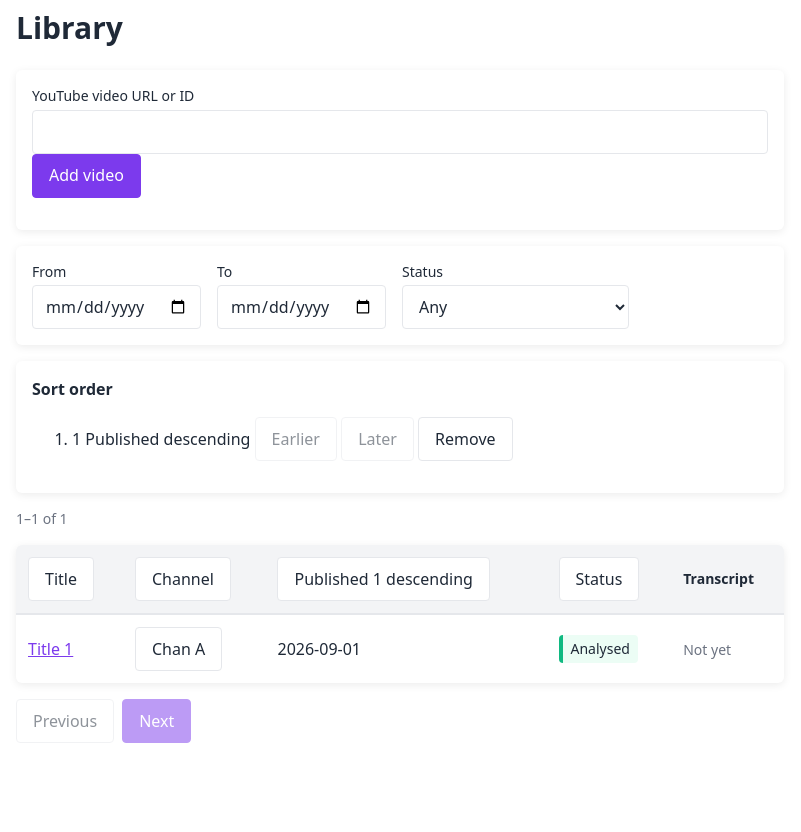
Test case: single-video submission › maps HTTP 422 to fixed feedback and retains the input
The width and height of the screenshot is (801, 832).
Step 1. Type " keep-me " into the field labelled "YouTube video URL or ID" → {"x": 400, "y": 132}, box x1=32 y1=110 x2=768 y2=154
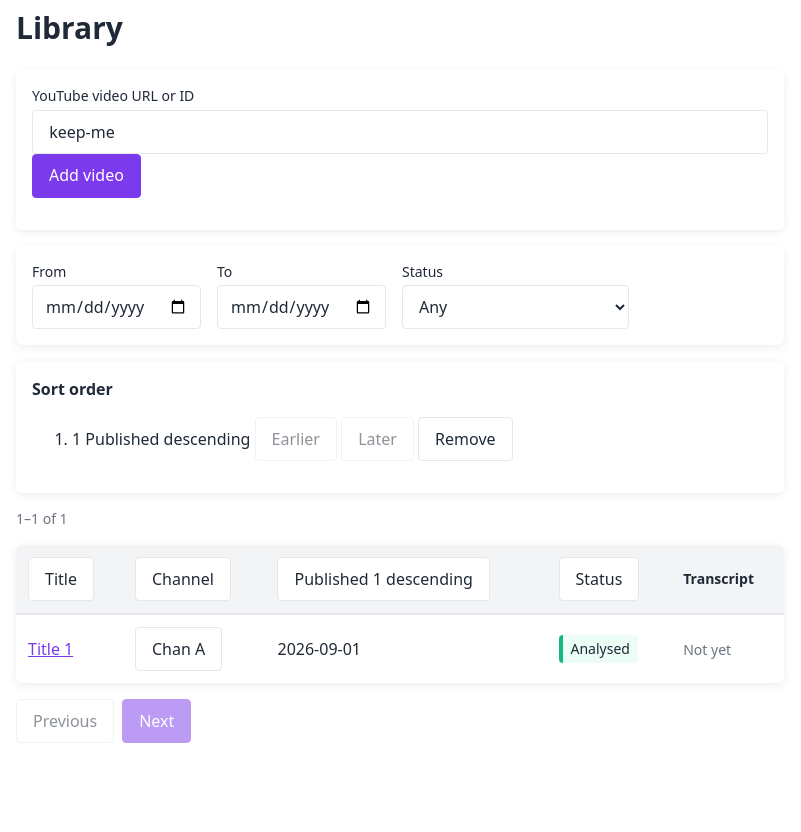
Step 2. Submit the form "YouTube video URL or ID", box x1=16 y1=70 x2=784 y2=230
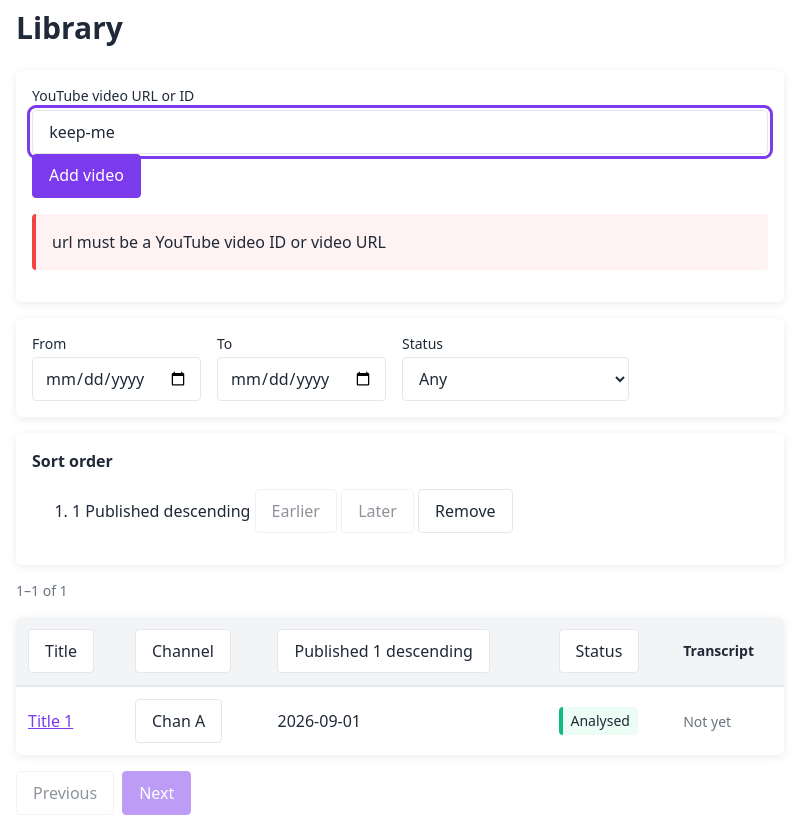
expect the message "url must be a YouTube video ID or video URL" is shown: met, box x1=32 y1=214 x2=768 y2=270
